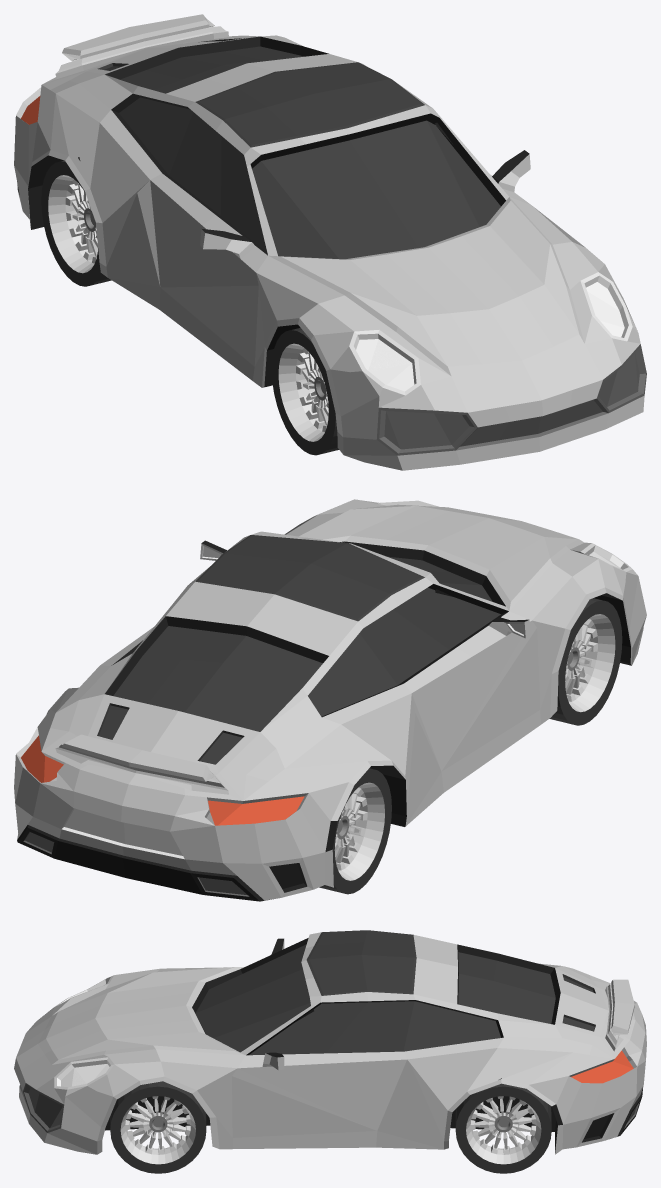
The model's file is porsche911turbos991.2.fbx.
3 views of the same model, one above another, from view 1: azimuth 30°, elevation 25°; view 2: azimuth 150°, elevation 25°; view 3: azimuth 270°, elevation 25° (orthographic). The views are drawn at different scales.
Parts seen in each view (by area): view 1: WhiteBody, FrontRight, BackRight; view 2: WhiteBody, FrontRight, BackRight; view 3: WhiteBody, FrontLeft, BackLeft.
Boxes of the visible parts, x1,y1,x2,y2 form: WhiteBody: (14,14,646,470); FrontRight: (271,328,338,455); BackRight: (41,160,111,286); WhiteBody: (14,499,646,901); FrontRight: (549,598,622,725); BackRight: (319,768,391,894); WhiteBody: (14,930,646,1154); FrontLeft: (110,1081,206,1173); BackLeft: (455,1083,551,1173).
Size of the model in its own units: 2.01 by 4.48 by 1.3.
